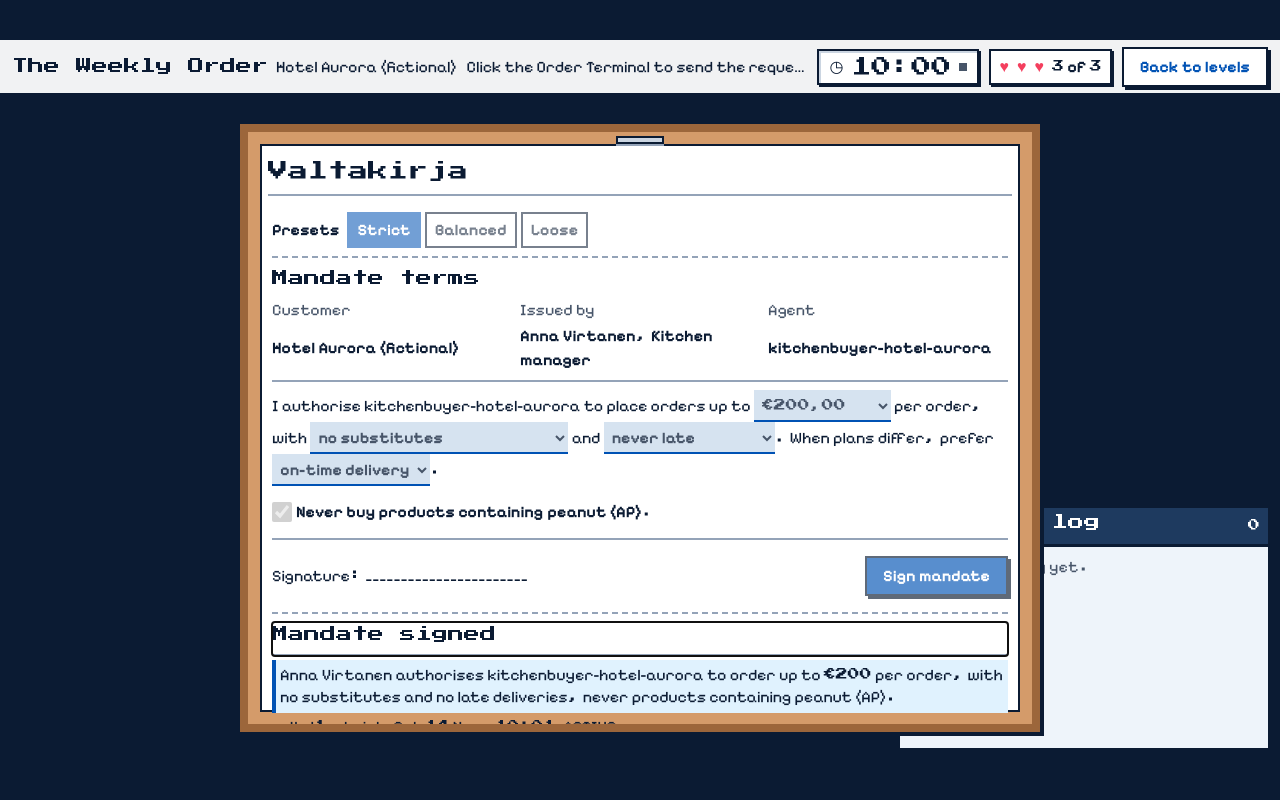
Test: KitchenScreen replay integration › level1 / strict reveals mock steps at director marks
Earlier steps of the test are not shown.
Expected: the text "Anna Virtanen authorises kitchenbuyer-hotel-aurora to order up to €200 per order, with no substitutes and no late delive" is shown, [280,665,1003,706]
Step 1. Press Escape
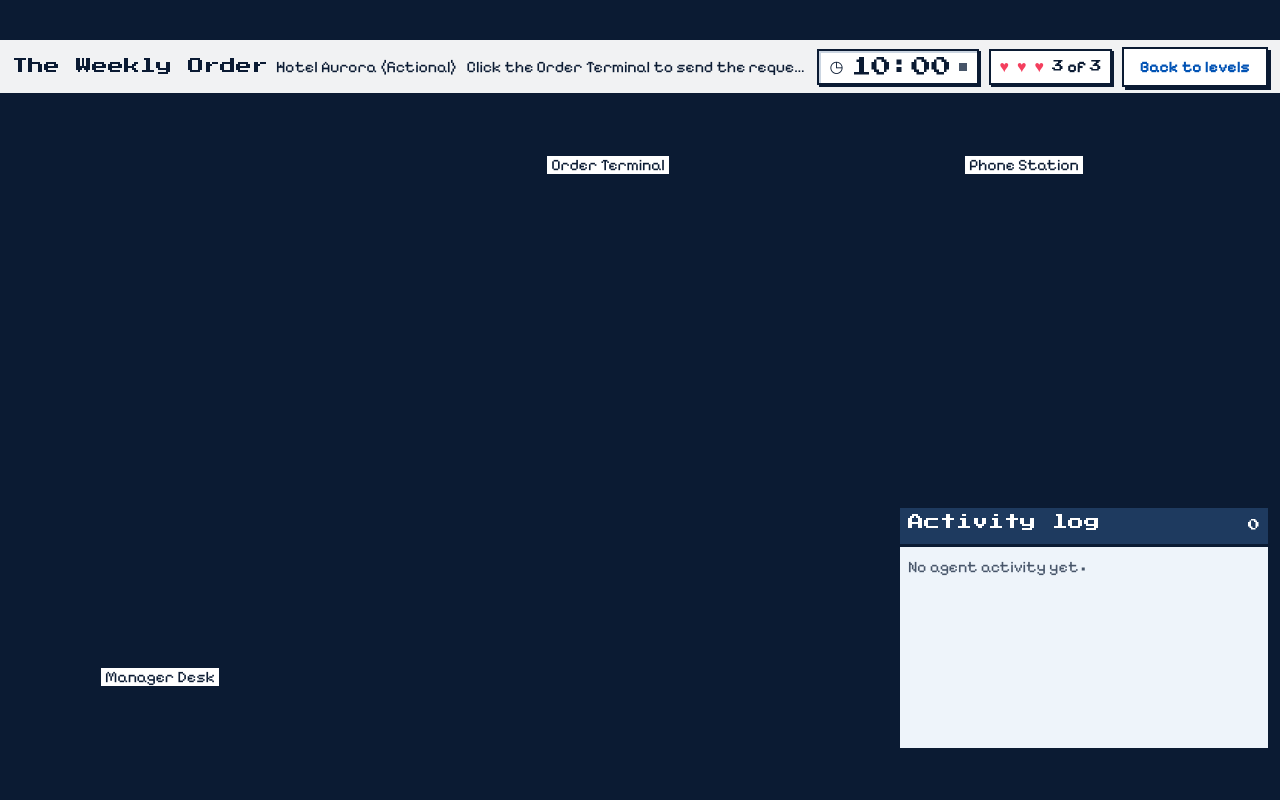
Step 2. Click the button "Order Terminal" → point(608, 144), box [512,112,704,176]
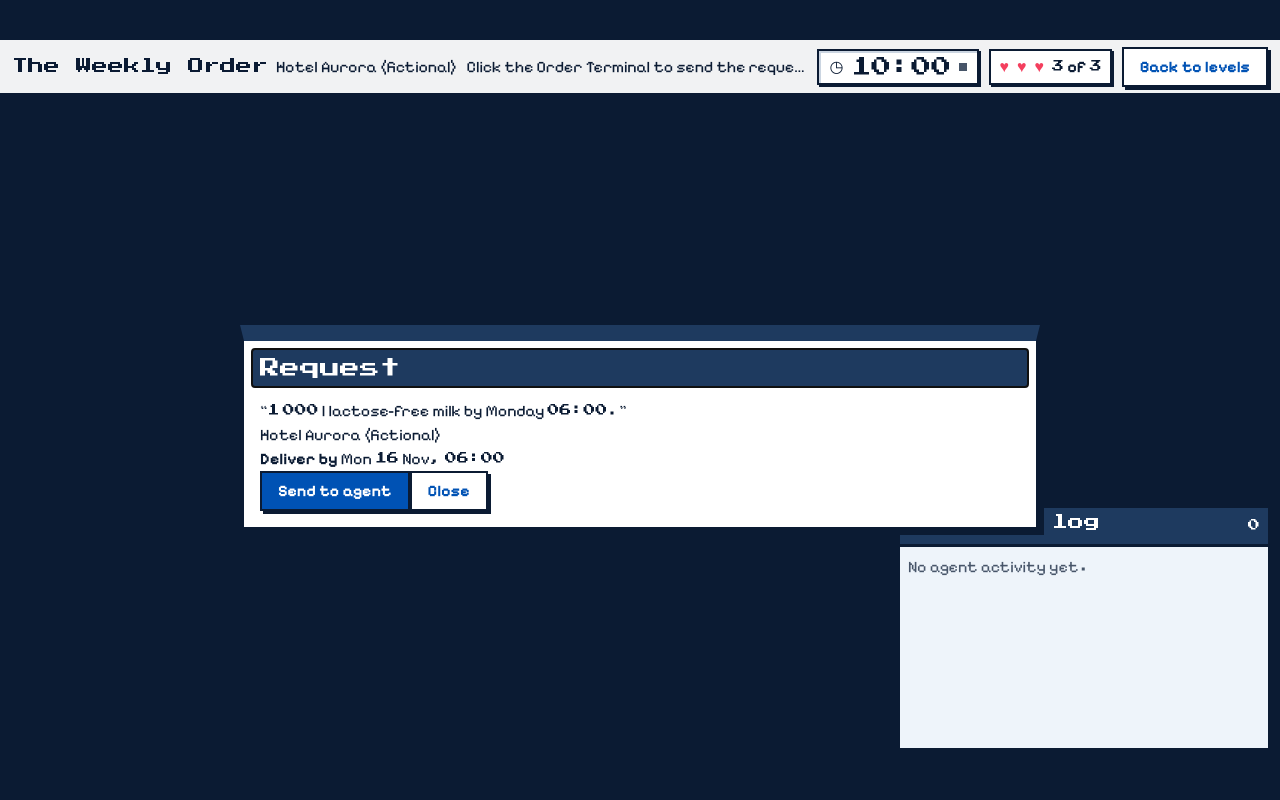
Expected: the element named "Game clock" shows "10:00", [851,56,951,76]
Expected: the element named "Activity log" reads "No agent activity yet.", [908,557,1091,576]
Step 3. Click the button "Send to agent" → point(335, 491), box [260,471,410,511]
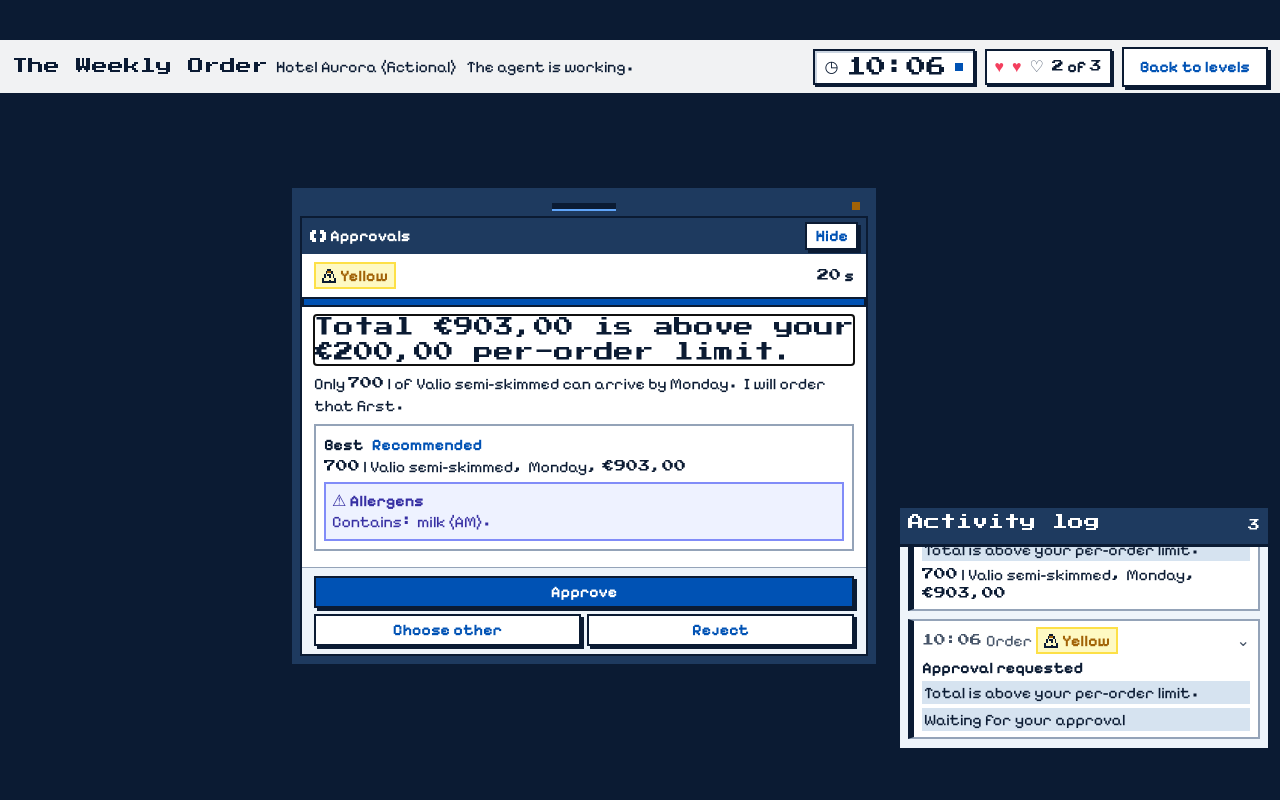
Step 4. Click the button "Approve" → point(584, 592), box [314,576,854,608]
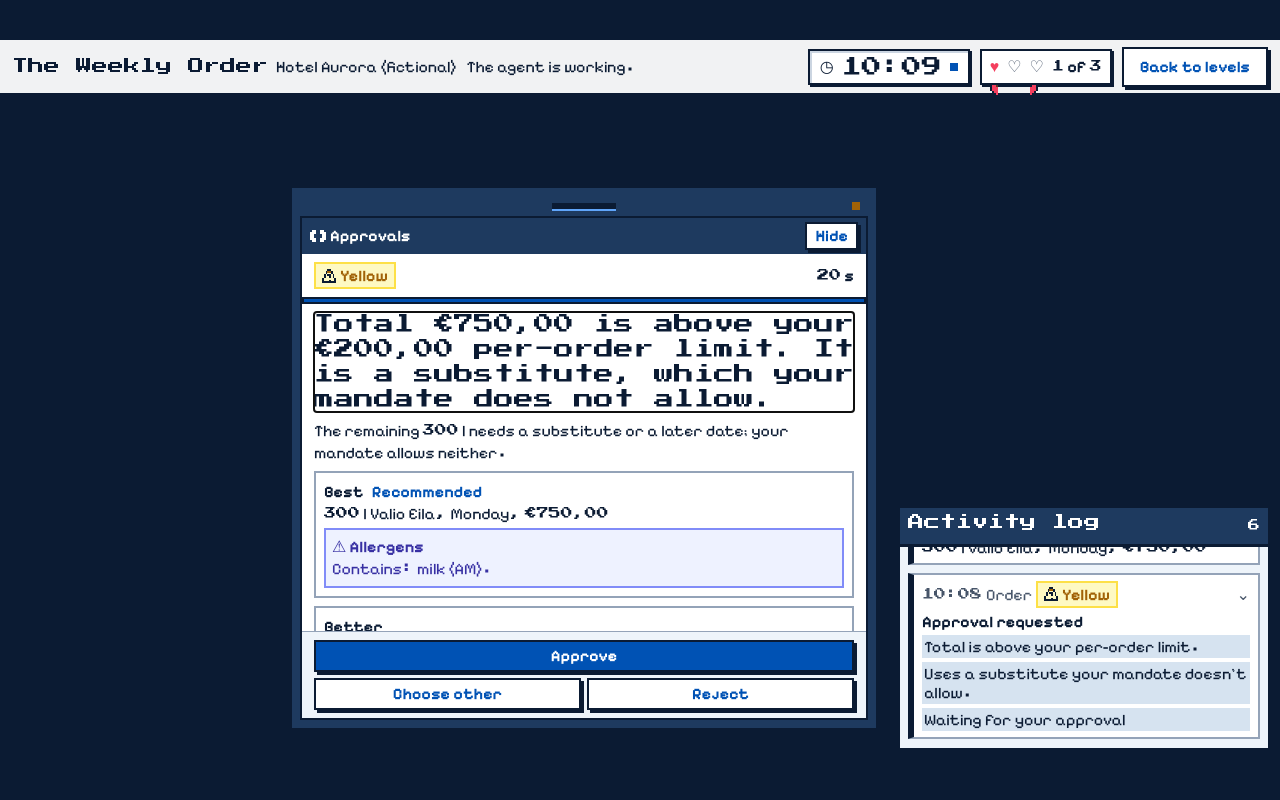
Step 5. Click the button "Approve" → point(584, 656), box [314,640,854,672]
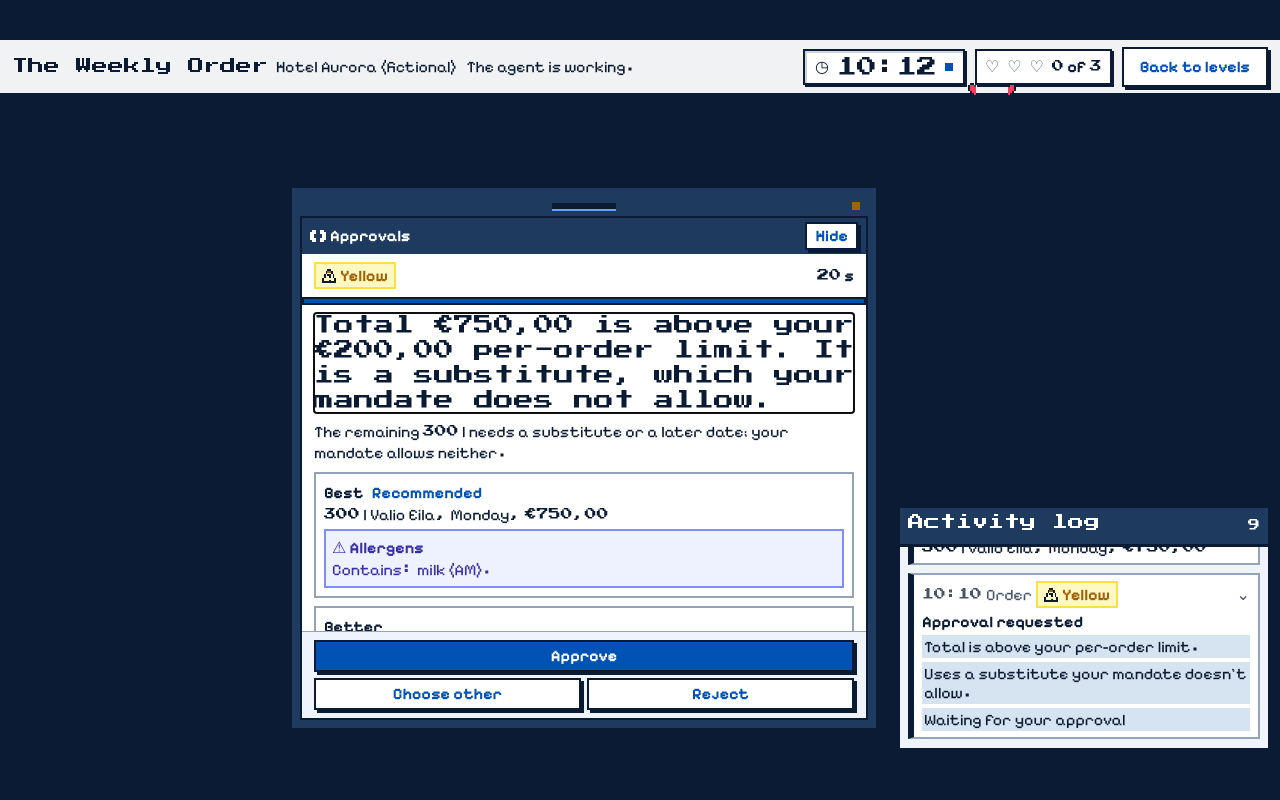
Step 6. Click the button "Approve" → point(584, 656), box [314,640,854,672]
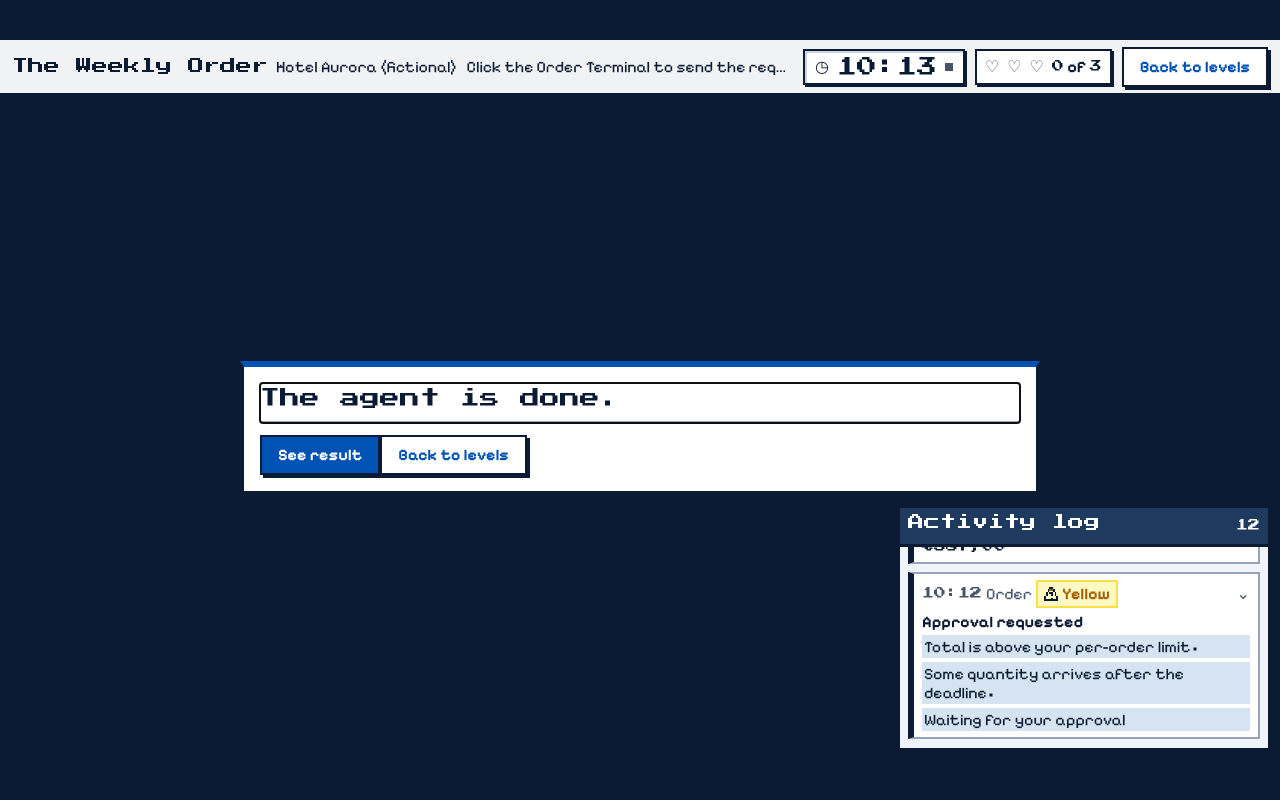
Expected: the text "Game clock" does not show "10:00"
Expected: the dialog "The agent is done." is shown, [240,361,1040,495]
